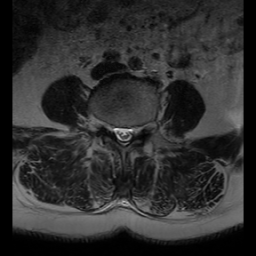CCS_normal: (120, 121, 127, 150)
LFS_normal: (136, 120, 144, 141)
LLS_normal: (127, 122, 136, 144)
RFS_normal: (103, 115, 112, 136)
RLS_normal: (112, 120, 120, 144)
